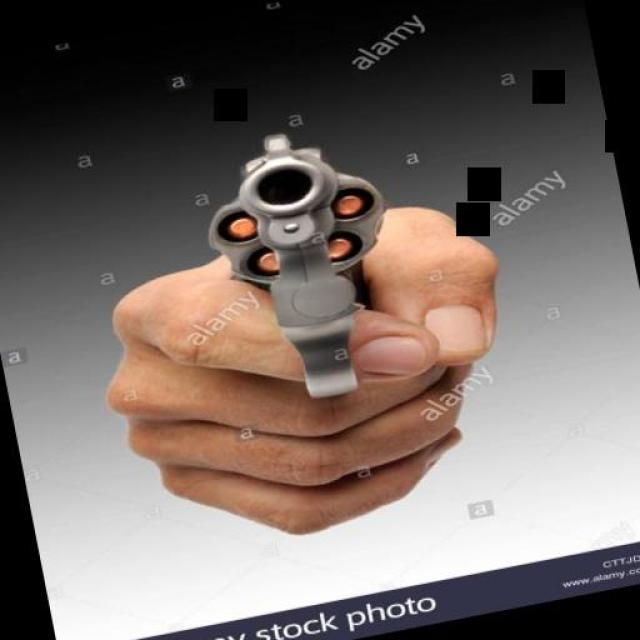gun: (176, 115, 422, 426)
